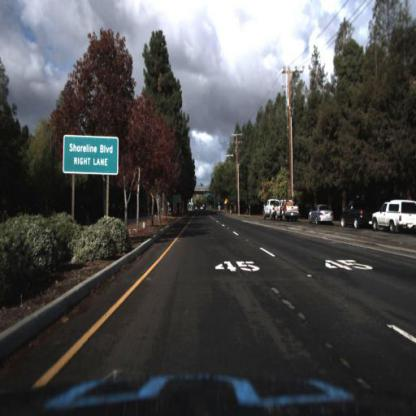car: (373, 199, 416, 233), (337, 203, 371, 230), (278, 199, 303, 224), (309, 203, 332, 227), (265, 199, 283, 224), (311, 206, 336, 224)
